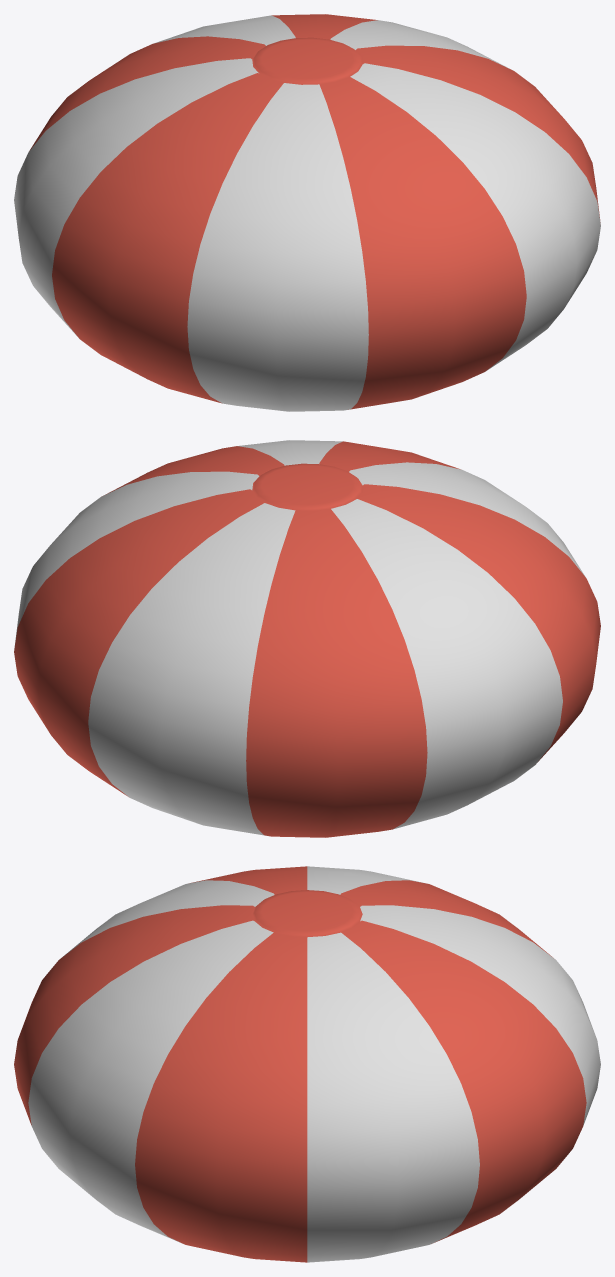
The model's file is BallPlatform.fbx.
3 renders of one model, top to bottom at view 1: azimuth 30°, elevation 25°; view 2: azimuth 150°, elevation 25°; view 3: azimuth 270°, elevation 25°, orthographic.
Visible parts, largest first — view 1: umiBall_low1; view 2: umiBall_low1; view 3: umiBall_low1.
Part boxes in pixels (left/top/right/bottom): umiBall_low1: left=14, top=14, right=600, bottom=411; umiBall_low1: left=14, top=440, right=600, bottom=837; umiBall_low1: left=14, top=866, right=600, bottom=1262.
Bounding box in the file's own units: 889 × 517 × 889.
